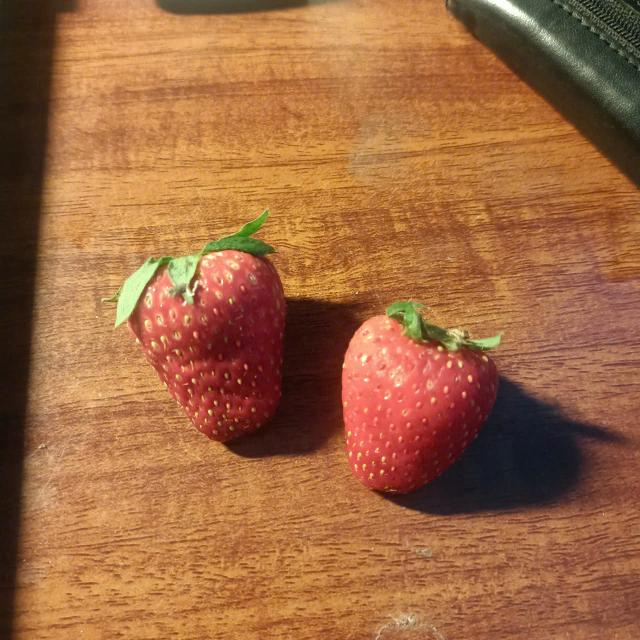DauTay: (113, 229, 294, 438), (335, 300, 502, 510)
